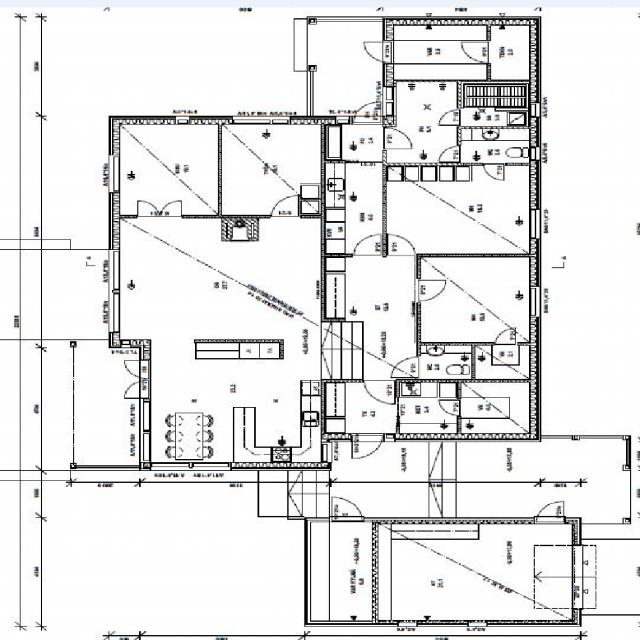door: (351, 433, 382, 464), (354, 41, 394, 63), (332, 495, 362, 524), (352, 95, 381, 124), (535, 496, 563, 524), (115, 360, 152, 379), (115, 379, 152, 398), (366, 379, 393, 404), (416, 280, 448, 301), (382, 128, 415, 148), (353, 233, 380, 257), (271, 194, 298, 218), (390, 357, 420, 378), (460, 43, 490, 63), (388, 235, 414, 258), (494, 326, 516, 346), (138, 198, 160, 218), (160, 198, 182, 218), (435, 146, 462, 162), (483, 162, 504, 182), (436, 110, 462, 125), (436, 401, 461, 416)
